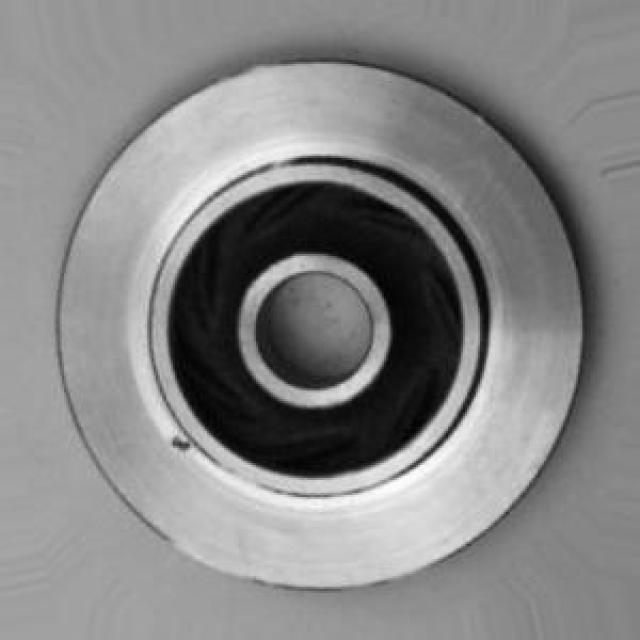Defect: (166, 432, 196, 462)
